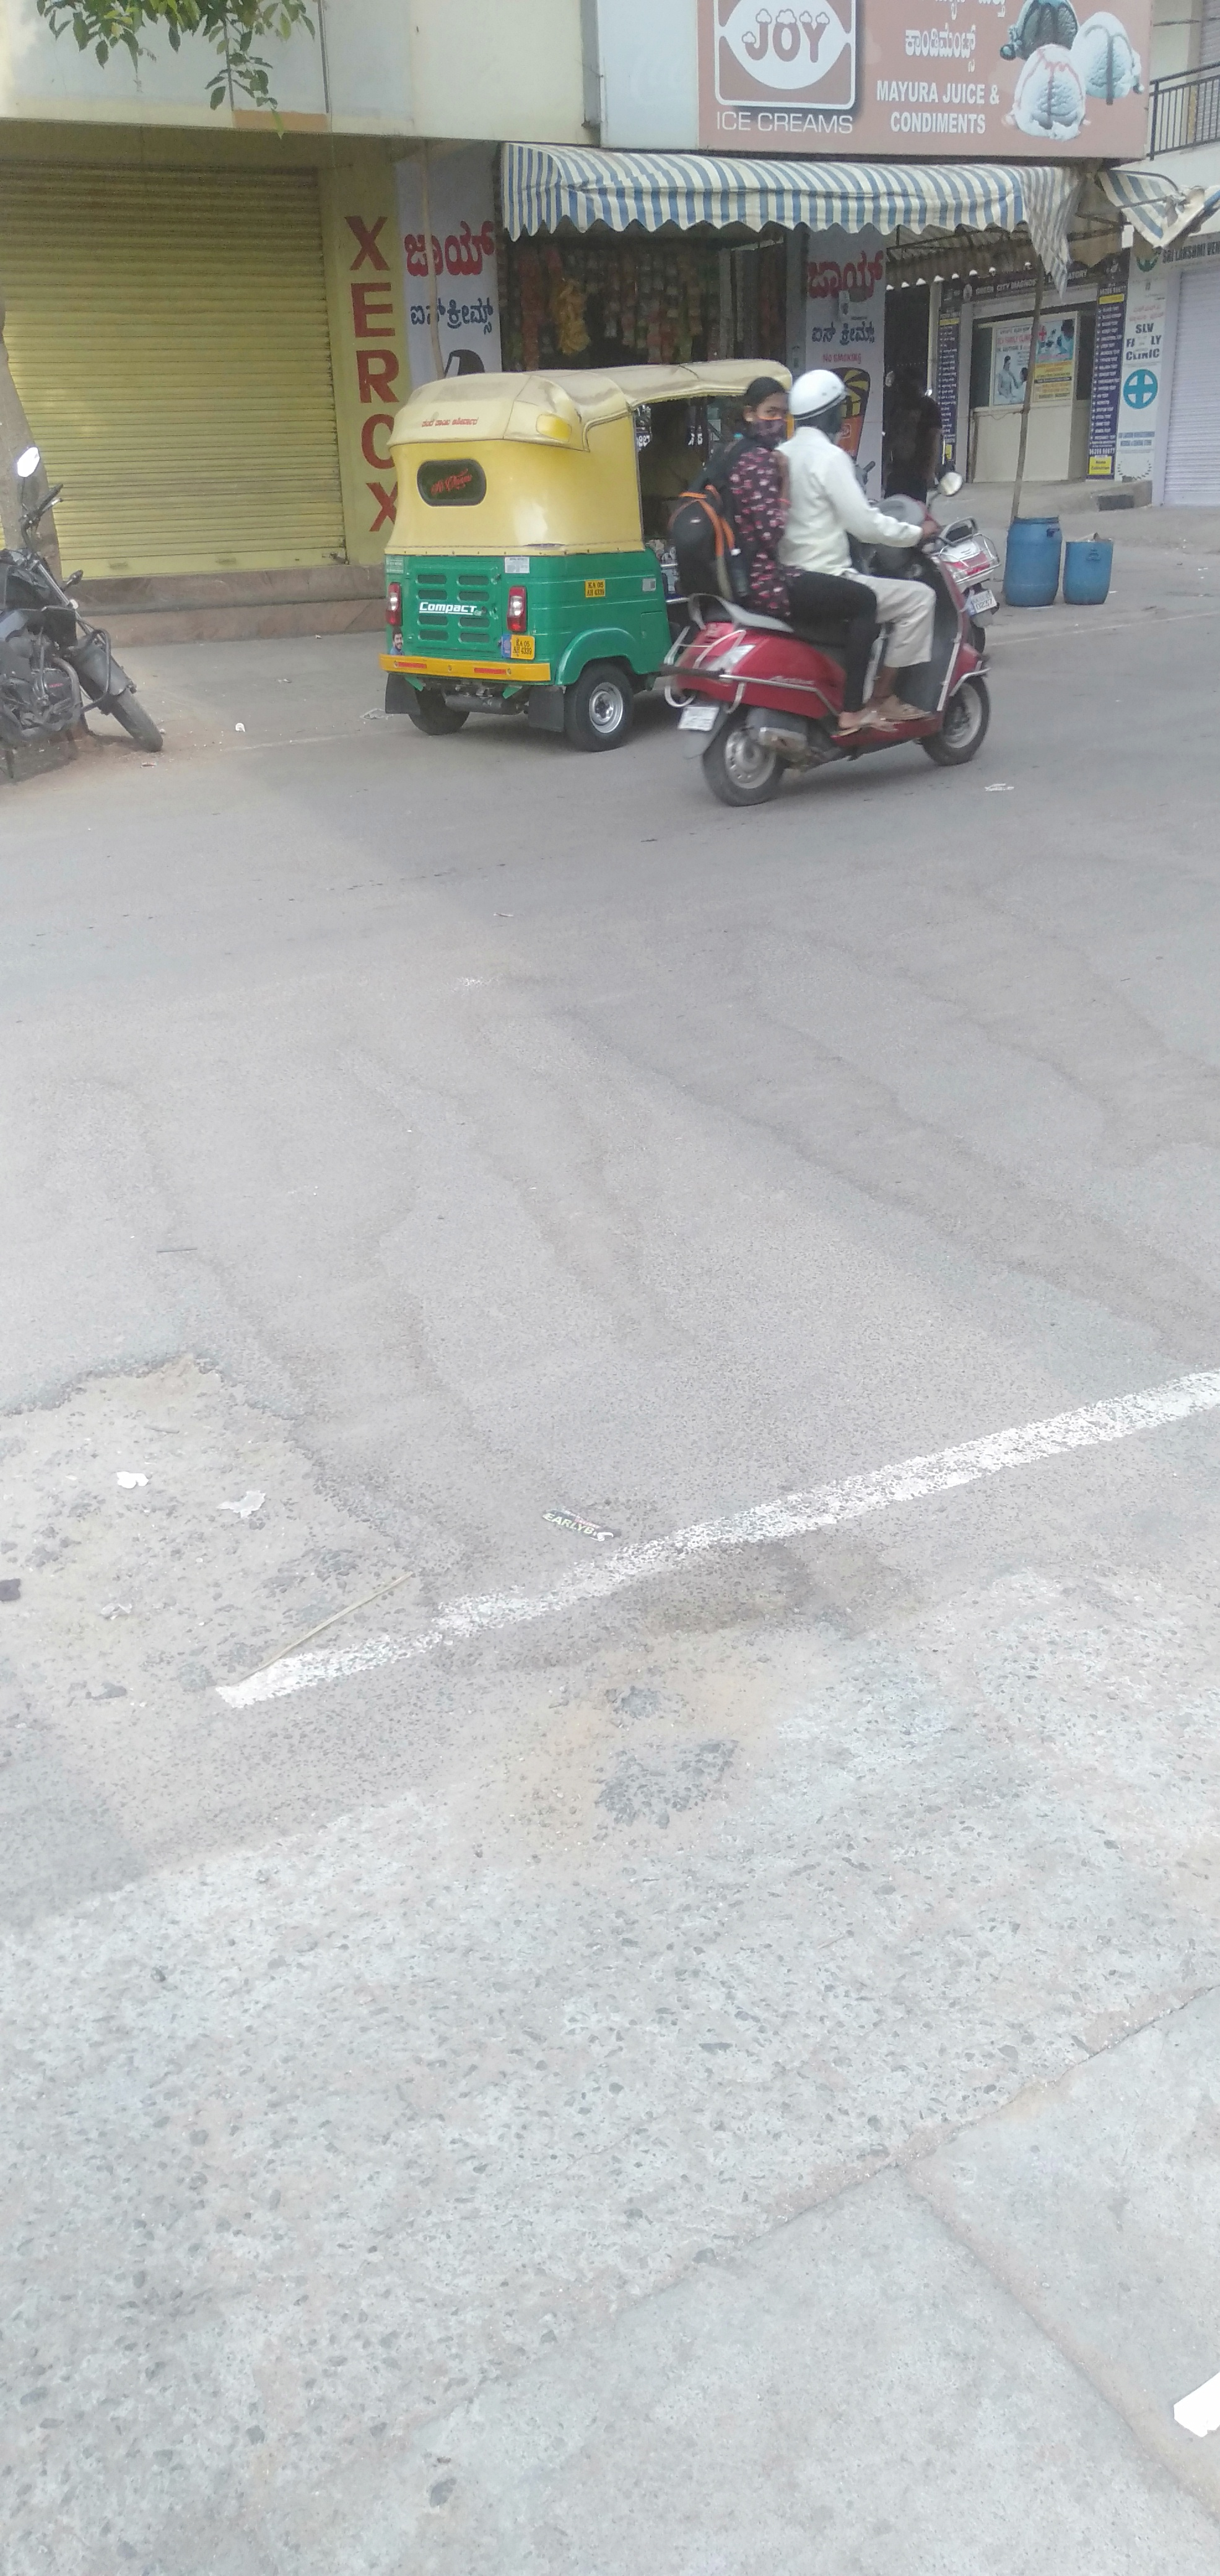auto: (383, 358, 795, 747)
two_wheelers: (662, 473, 992, 808), (0, 448, 164, 785)
